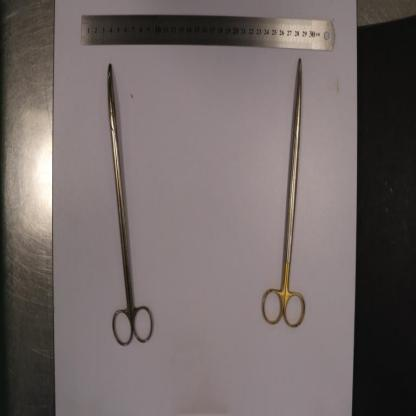7 Metzenbaum Scissors: (260, 54, 307, 328)
9 Metzenbaum Scissors: (108, 60, 156, 346)
